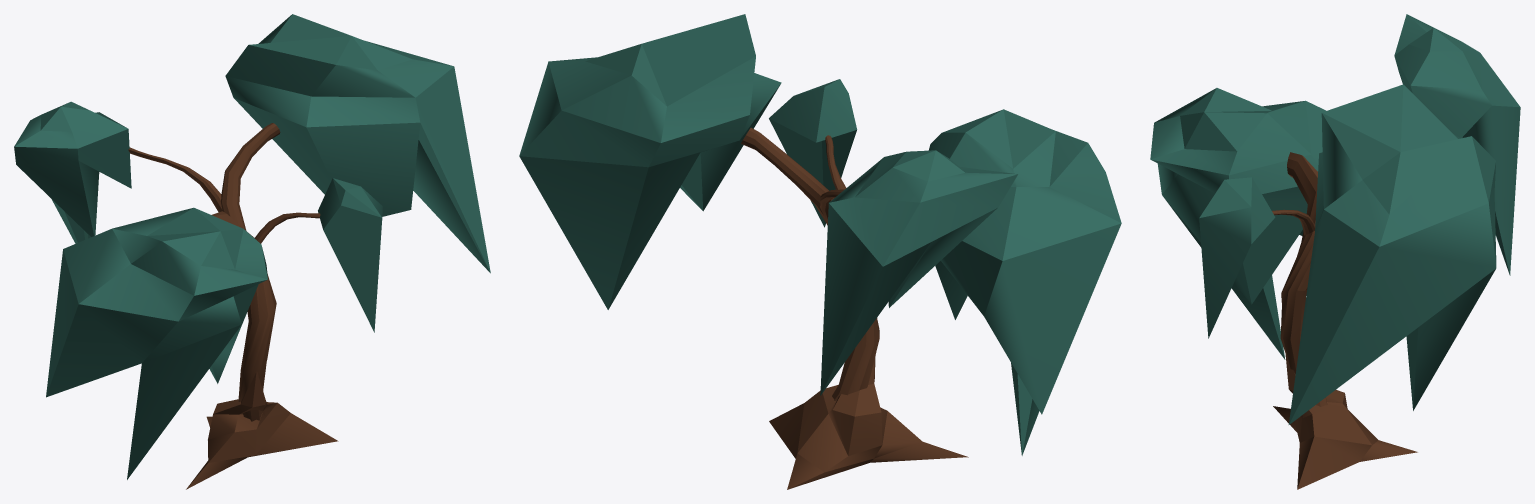
File: Trees_2.fbx
3 renders of one model, left to right at view 1: azimuth 30°, elevation 25°; view 2: azimuth 150°, elevation 25°; view 3: azimuth 270°, elevation 25°, orthographic. The views are drawn at different scales.
Visible parts, largest first — view 1: pSphere16, pSphere14, pSphere15, pSphere17, pSphere18, pCylinder20, pCylinder21, pCylinder19, pCylinder22; view 2: pSphere16, pSphere14, pSphere15, pSphere17, pSphere18, pCylinder21, pCylinder20; view 3: pSphere16, pSphere14, pSphere15, pSphere18, pSphere17, pCylinder20, pCylinder22.
Part boxes in pixels (box(x1,y1,x2,y2)): pSphere16: box(225, 14, 490, 273); pSphere14: box(46, 207, 267, 479); pSphere15: box(14, 101, 131, 243); pSphere17: box(186, 371, 338, 489); pSphere18: box(318, 178, 382, 332); pCylinder20: box(212, 211, 276, 421); pCylinder21: box(221, 123, 280, 230); pCylinder19: box(128, 147, 222, 212); pCylinder22: box(254, 212, 320, 243); pSphere16: box(519, 14, 781, 309); pSphere14: box(928, 109, 1121, 455); pSphere15: box(820, 150, 1017, 395); pSphere17: box(769, 358, 968, 489); pSphere18: box(769, 79, 857, 227); pCylinder21: box(741, 127, 833, 225); pCylinder20: box(832, 318, 879, 400); pSphere16: box(1288, 84, 1496, 424); pSphere14: box(1150, 88, 1326, 359); pSphere15: box(1394, 14, 1520, 275); pSphere18: box(1199, 177, 1275, 338); pSphere17: box(1273, 354, 1417, 489); pCylinder20: box(1280, 152, 1327, 412); pCylinder22: box(1272, 209, 1315, 235).
Size of the model in its own units: 0.1835 by 0.1475 by 0.1278.
